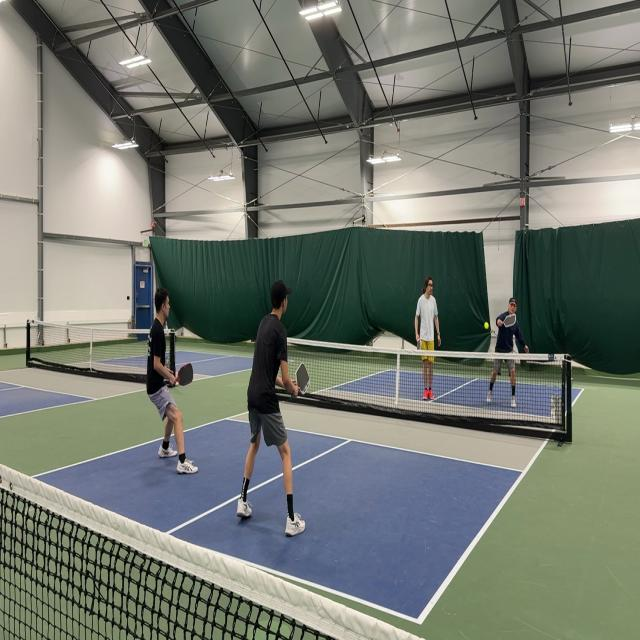ball: (484, 321, 489, 330)
